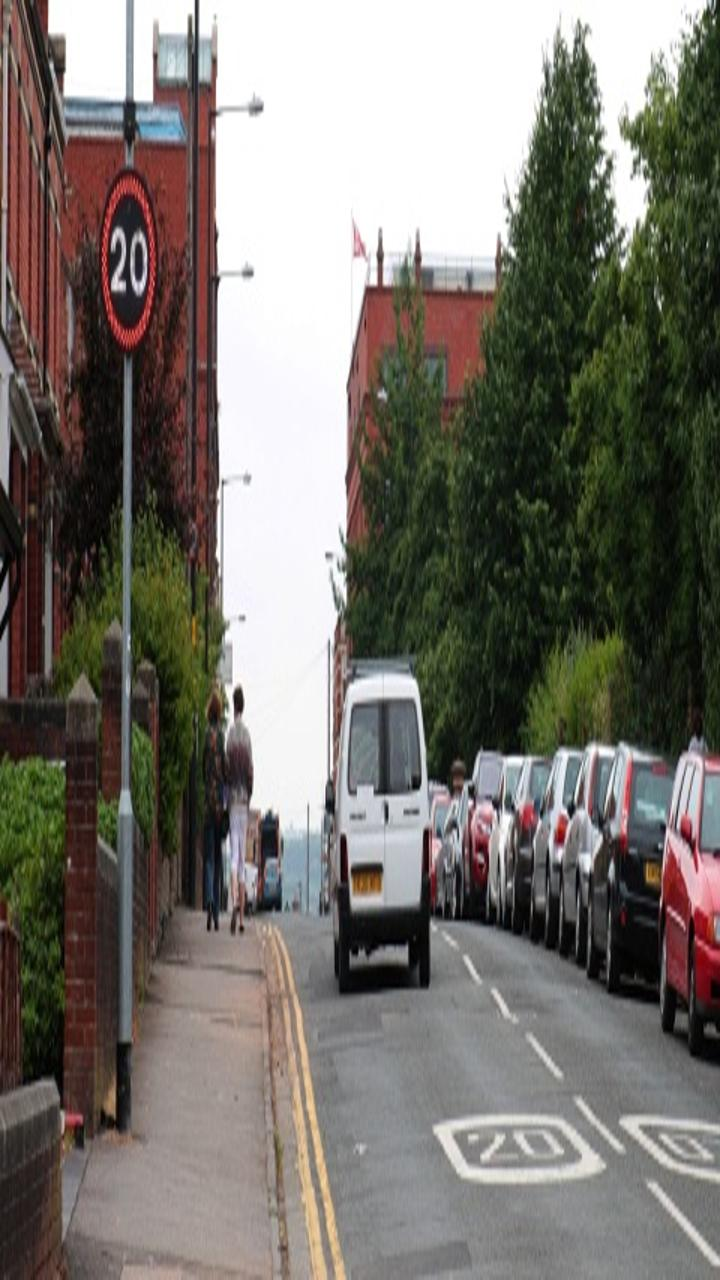pedestrian: (228, 684, 262, 948), (201, 681, 235, 945)
vehicle: (316, 660, 447, 1007), (559, 723, 632, 995), (666, 751, 720, 1099), (596, 741, 662, 1015), (531, 740, 581, 963), (508, 738, 558, 961), (487, 739, 537, 962), (458, 731, 508, 954)
